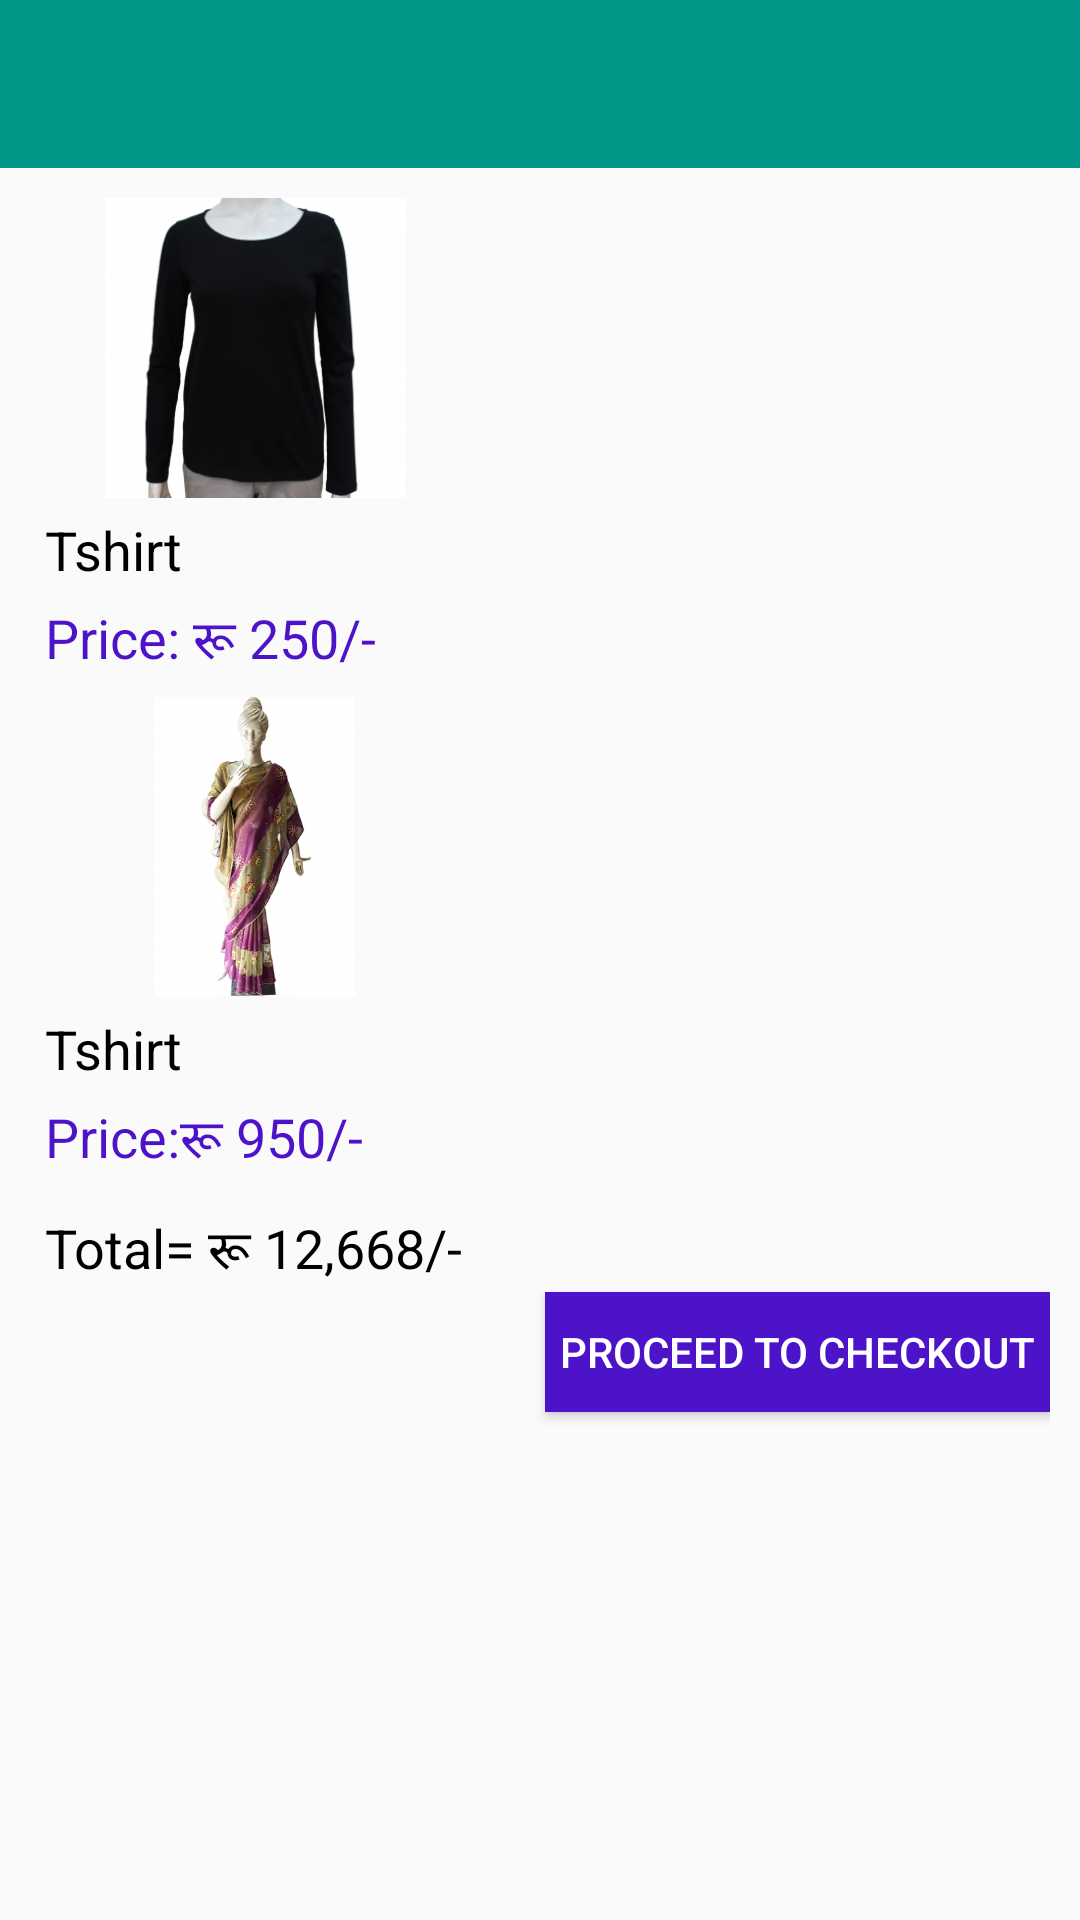

Named icons in this screenshot (1080×1920) and their bounding boxes, box=[x1, y1, x2, y2]:
saree: box=[202, 697, 311, 996]
